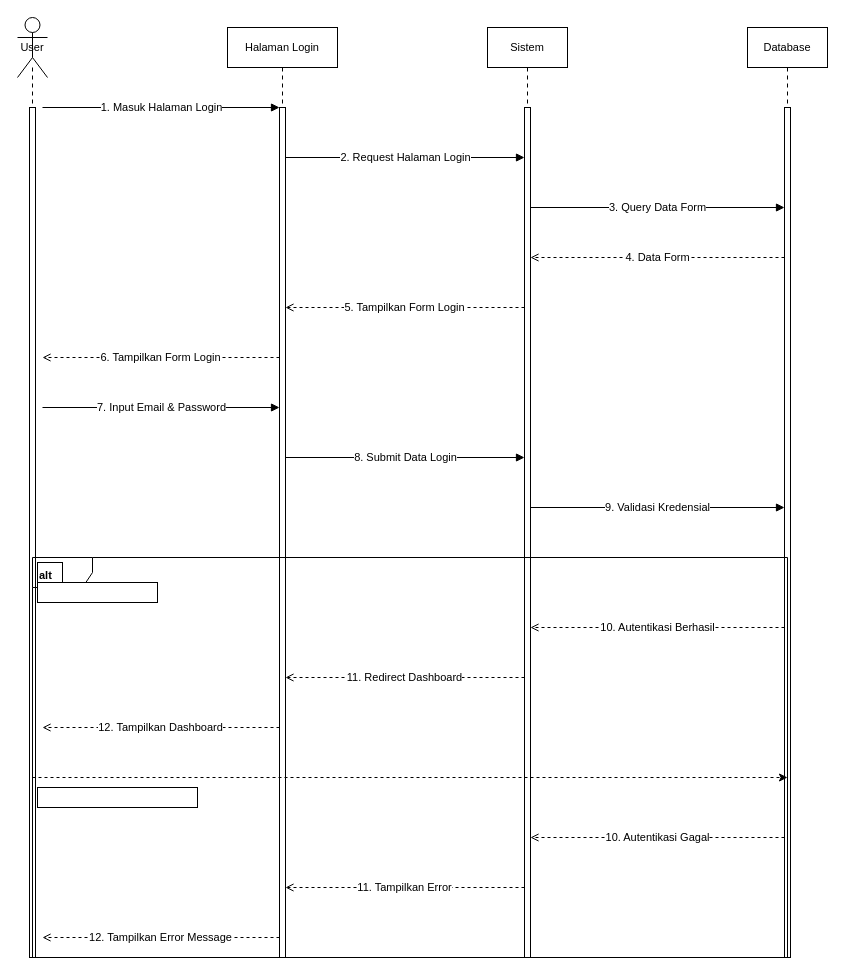
This 845x976 diagram has some shape labels left out. Each missing label, with the centre of its shape:
[Kredensial Tidak Valid]: (117,797)
[Kredensial Valid]: (97,592)
